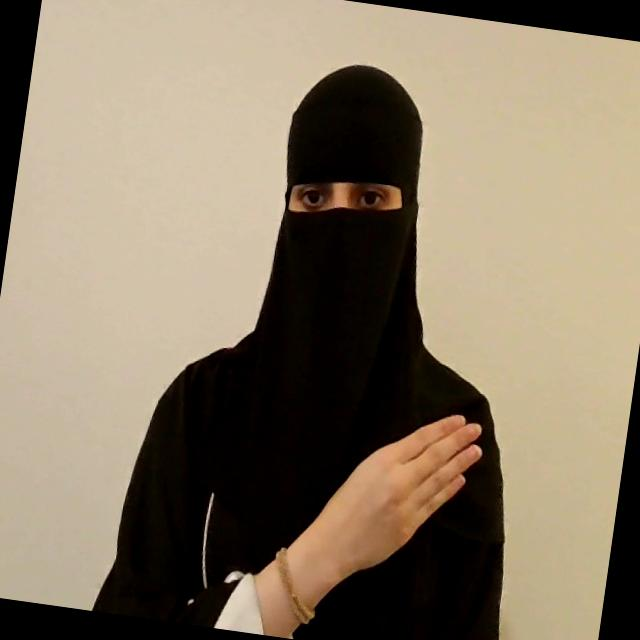result: (283, 390, 492, 596)
